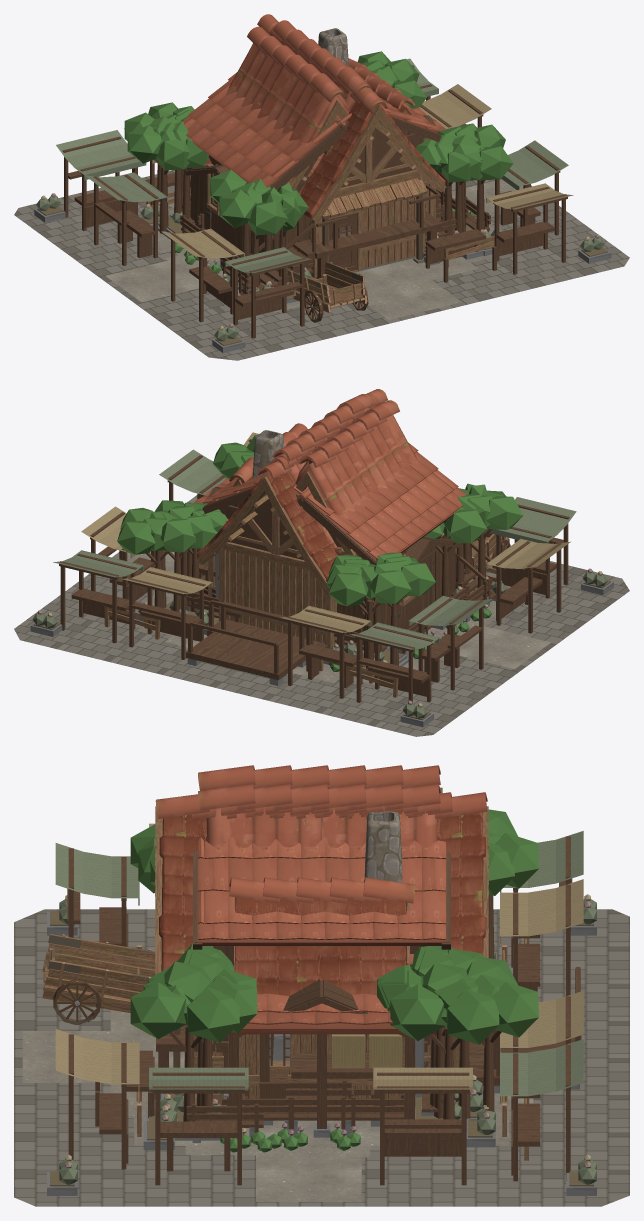
The picture shows the model from 3 angles, top to bottom: view 1: azimuth 30°, elevation 25°; view 2: azimuth 150°, elevation 25°; view 3: azimuth 270°, elevation 25°; orthographic projection. The views are drawn at different scales.
Visible parts, largest first — view 1: market-civic-square-surface-paving, Wall_WoodWear_Door_Flat (×2), Roof_RoundTiles_4x4 (×2), facility-farm-roof, market-civic-square-surface-path, Roof_FlatTiles_4x6, market-civic-square-stalls-seat-8, facility-market-kit-Prop_Wagon-0-mesh, facility-granary-deck, market-civic-square-stalls-seat-9, market-civic-square-stalls-seat-4, market-civic-square-roof-seat-0 (+33 smaller); view 2: market-civic-square-surface-paving, Wall_WoodWear_Door_Flat, Roof_RoundTiles_4x4 (×2), facility-farm-roof, market-civic-square-stage-seat-0, Roof_FlatTiles_4x6, market-civic-square-surface-path, market-civic-square-stalls-seat-0, market-civic-square-stalls-seat-2, market-civic-square-stalls-seat-1, market-civic-square-stalls-seat-3, market-civic-square-stalls-seat-4 (+37 smaller); view 3: market-civic-square-surface-paving, Roof_RoundTiles_4x4 (×2), facility-granary-roof, Roof_FlatTiles_4x6, Roof_2x4_FlatTile, market-civic-square-surface-path, facility-market-kit-Prop_Wagon-0-mesh, plaza-festival-court-foliage-seat-1, plaza-town-square-foliage-seat-1, market-civic-square-stalls-seat-6, facility-farm-roof, facility-farm-core (+52 smaller).
Part boxes in pixels (x1,y1,x2,y2): market-civic-square-surface-paving: [14, 170, 629, 360]; Wall_WoodWear_Door_Flat (×2): [309, 105, 446, 278]; Roof_RoundTiles_4x4 (×2): [204, 20, 415, 193]; facility-farm-roof: [182, 72, 446, 190]; market-civic-square-surface-path: [106, 179, 523, 319]; Roof_FlatTiles_4x6: [257, 14, 445, 218]; market-civic-square-stalls-seat-8: [231, 250, 306, 338]; facility-market-kit-Prop_Wagon-0-mesh: [287, 261, 368, 322]; facility-granary-deck: [301, 183, 442, 258]; market-civic-square-stalls-seat-9: [493, 186, 567, 274]; market-civic-square-stalls-seat-4: [93, 174, 158, 265]; market-civic-square-roof-seat-0: [56, 130, 146, 180]; market-civic-square-surface-paving: [14, 495, 629, 736]; Wall_WoodWear_Door_Flat: [197, 402, 384, 648]; Roof_RoundTiles_4x4 (×2): [229, 394, 444, 557]; facility-farm-roof: [194, 443, 466, 564]; market-civic-square-stage-seat-0: [186, 621, 305, 685]; Roof_FlatTiles_4x6: [197, 389, 387, 581]; market-civic-square-surface-path: [116, 551, 550, 669]; market-civic-square-stalls-seat-0: [355, 626, 433, 703]; market-civic-square-stalls-seat-2: [127, 570, 205, 659]; market-civic-square-stalls-seat-1: [286, 609, 364, 698]; market-civic-square-stalls-seat-3: [59, 553, 137, 643]; market-civic-square-stalls-seat-4: [417, 598, 484, 690]; market-civic-square-surface-paving: [14, 909, 629, 1206]; Roof_RoundTiles_4x4 (×2): [198, 765, 440, 903]; facility-granary-roof: [193, 837, 450, 949]; Roof_FlatTiles_4x6: [155, 792, 487, 971]; Roof_2x4_FlatTile: [234, 897, 407, 996]; market-civic-square-surface-path: [22, 1031, 361, 1201]; facility-market-kit-Prop_Wagon-0-mesh: [42, 934, 155, 1024]; plaza-festival-court-foliage-seat-1: [130, 961, 239, 1042]; plaza-town-square-foliage-seat-1: [390, 963, 499, 1044]; market-civic-square-stalls-seat-6: [377, 1072, 469, 1185]; facility-farm-roof: [229, 993, 436, 1034]; facility-farm-core: [259, 1034, 404, 1105].
Bounding box in the file's own units: 16 × 6.9 × 14.
Materials: 15 (10 with a texture image).
